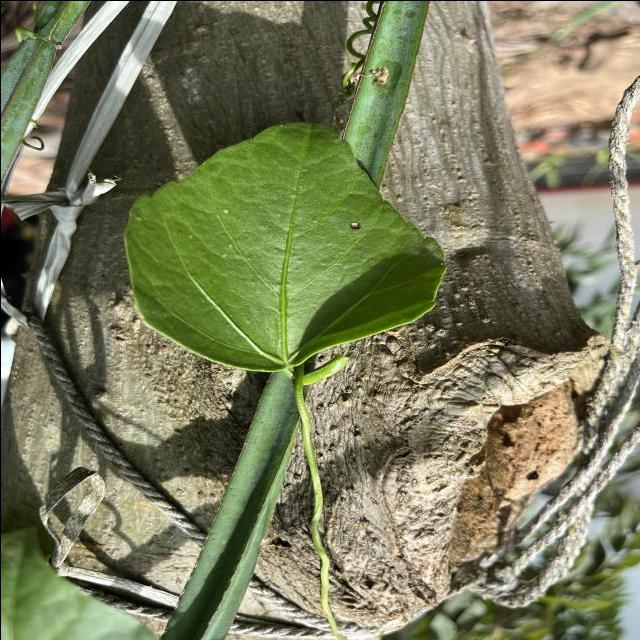Cissus quadrangularis: (120, 112, 452, 376)
